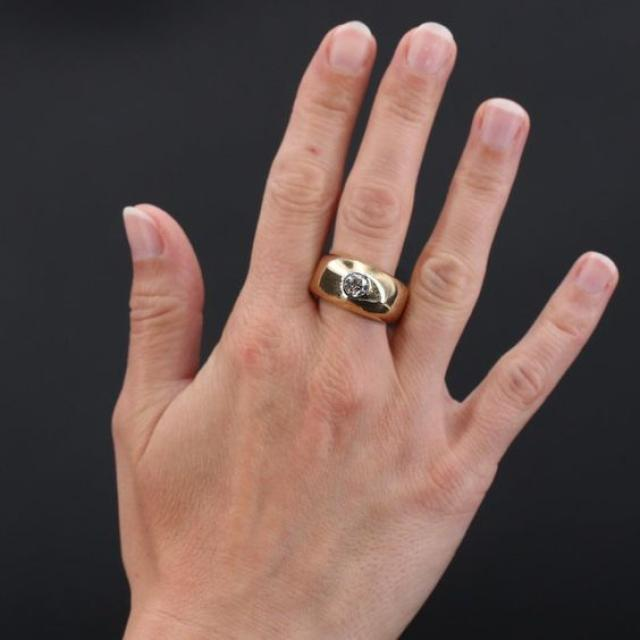Fingernail: (407, 23, 453, 79), (330, 22, 373, 79), (124, 209, 164, 264), (480, 101, 523, 151), (577, 255, 616, 295)
